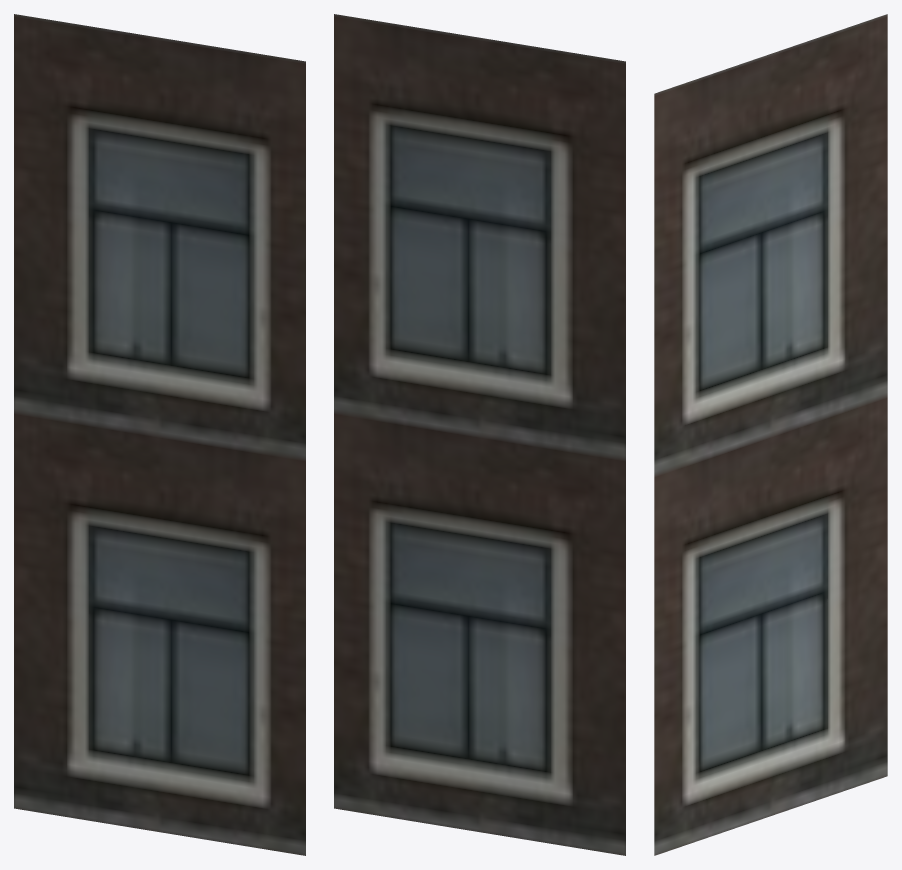
Rendered from ResTex__4161.fbx.
3 views of the same model, side by side, from view 1: azimuth 30°, elevation 25°; view 2: azimuth 210°, elevation 25°; view 3: azimuth 270°, elevation 25° (orthographic). The views are drawn at different scales.
Visible parts, largest first — view 1: CityEngineMaterial_16_m; view 2: CityEngineMaterial_16_m; view 3: CityEngineMaterial_16_m.
Part boxes in pixels (left/top/right/bottom): CityEngineMaterial_16_m: left=14, top=14, right=305, bottom=855; CityEngineMaterial_16_m: left=334, top=14, right=625, bottom=855; CityEngineMaterial_16_m: left=654, top=14, right=887, bottom=855.
Bounding box in the file's own units: 1.35 × 6 × 1.66.
1 material, 1 textured.
